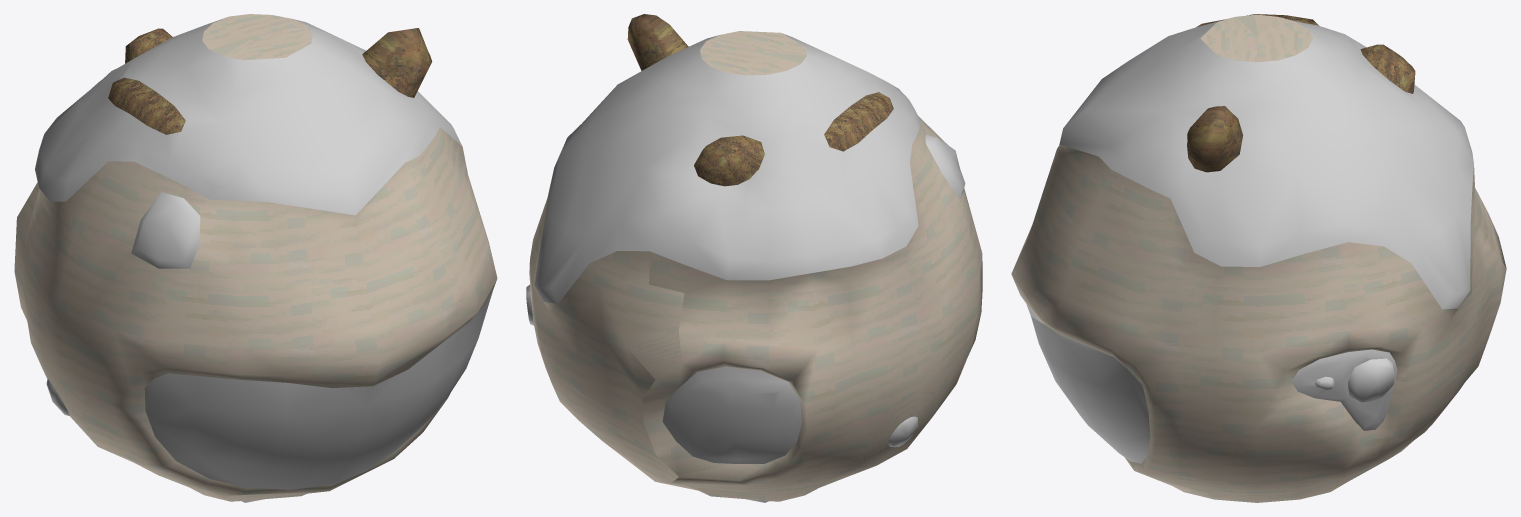
File: cocotwinblow.dae
3 renders of one model, left to right at view 1: azimuth 30°, elevation 25°; view 2: azimuth 150°, elevation 25°; view 3: azimuth 270°, elevation 25°, orthographic. The views are drawn at different scales.
Visible parts, largest first — view 1: n3b1, n1b2, n4b0, n2b4; view 2: n3b1, n1b2, n4b0, n2b4; view 3: n3b1, n1b2, n4b0, n2b4.
Boxes of the visible parts, left/top/right/bottom form: n3b1: left=14, top=14, right=497, bottom=501; n1b2: left=35, top=17, right=462, bottom=415; n4b0: left=144, top=288, right=493, bottom=489; n2b4: left=108, top=28, right=432, bottom=134; n3b1: left=529, top=31, right=982, bottom=501; n1b2: left=526, top=33, right=965, bottom=447; n4b0: left=662, top=366, right=801, bottom=463; n2b4: left=627, top=14, right=893, bottom=186; n3b1: left=1011, top=14, right=1506, bottom=502; n1b2: left=1059, top=17, right=1473, bottom=402; n4b0: left=1026, top=304, right=1397, bottom=463; n2b4: left=1187, top=14, right=1415, bottom=172.
Size of the model in its own units: 2046 by 2197 by 2195.
